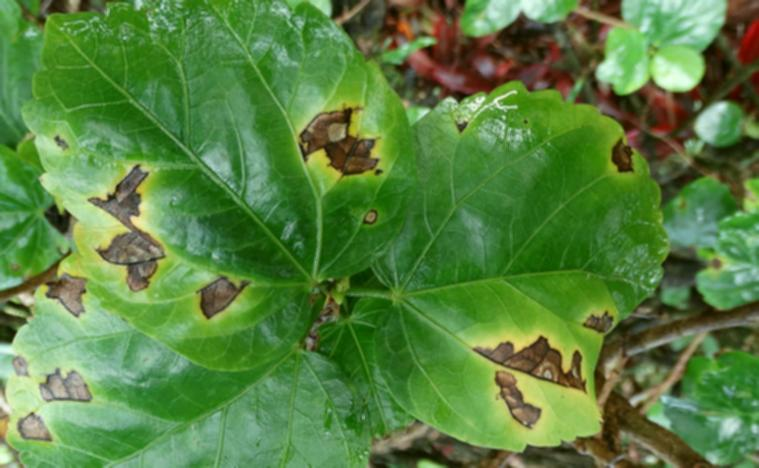Tomato Septoria leaf spot: (20, 0, 417, 355), (375, 94, 680, 455)
